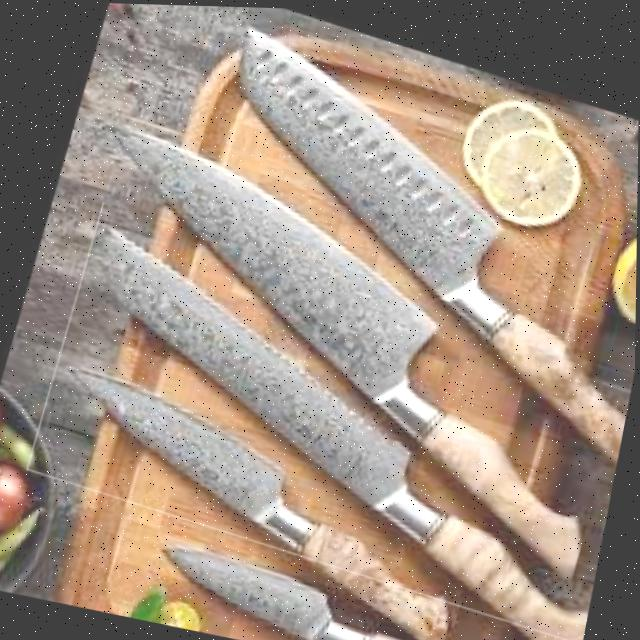knife: (46, 121, 639, 578), (37, 221, 637, 640), (176, 22, 640, 469), (35, 364, 489, 640), (148, 542, 546, 640)
